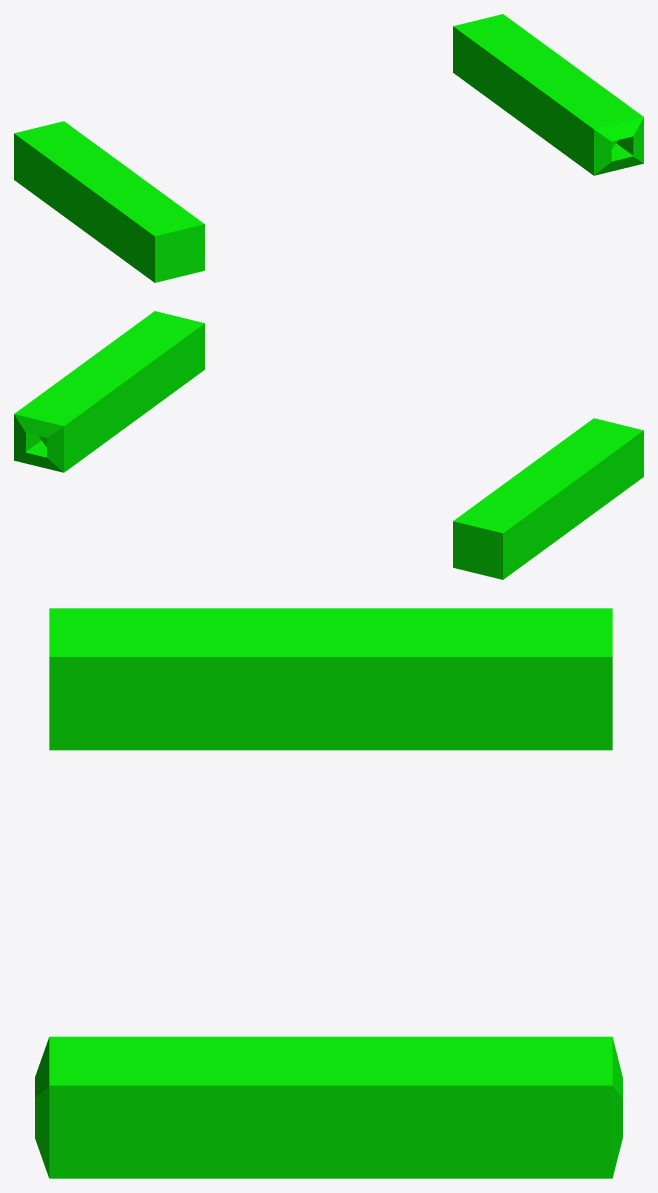
Rendered from laser.gltf.
3 renders of one model, top to bottom at view 1: azimuth 30°, elevation 25°; view 2: azimuth 150°, elevation 25°; view 3: azimuth 270°, elevation 25°, orthographic. The views are drawn at different scales.
Visible parts, largest first — view 1: Cylinder.001; view 2: Cylinder.001; view 3: Cylinder.001.
Part boxes in pixels (box(x1,y1,x2,y2)): Cylinder.001: box(14, 14, 643, 282); Cylinder.001: box(14, 311, 643, 579); Cylinder.001: box(35, 608, 622, 1178).
Bounding box in the file's own units: 0.2332 × 0.0212 × 0.1214.
